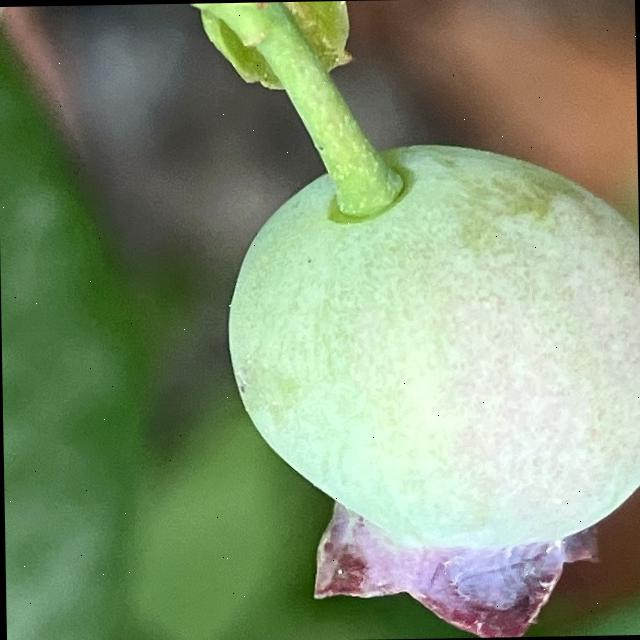Blueberries: (170, 113, 640, 640)
